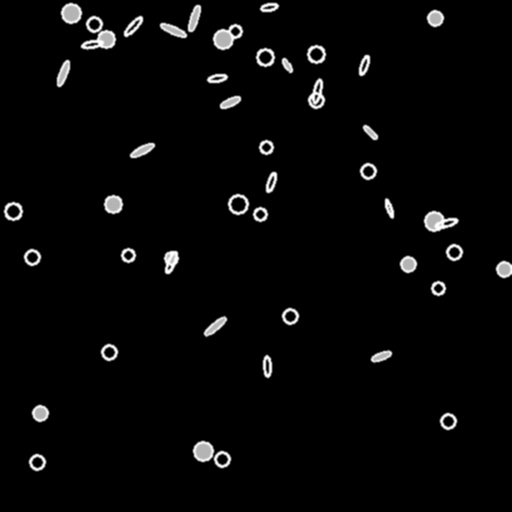pseudomonas: (203, 315, 227, 337), (122, 15, 144, 37), (159, 22, 187, 38), (55, 59, 71, 87), (130, 141, 154, 159), (163, 250, 179, 274), (187, 5, 201, 31), (434, 216, 458, 230), (370, 349, 392, 363), (264, 171, 278, 193), (311, 79, 323, 103), (220, 95, 240, 109), (362, 124, 378, 140), (358, 55, 370, 75), (82, 39, 102, 49), (281, 57, 293, 73), (384, 199, 394, 217), (208, 73, 226, 83), (261, 2, 277, 12), (263, 356, 271, 376)
synechocystis: (229, 195, 247, 213), (194, 442, 212, 460), (62, 4, 80, 22), (425, 212, 443, 230), (214, 30, 232, 48), (308, 46, 324, 62), (98, 31, 114, 47), (257, 49, 273, 65), (5, 203, 21, 219), (105, 196, 121, 212), (428, 11, 442, 25), (215, 452, 229, 466), (401, 257, 415, 271), (447, 245, 461, 259), (87, 17, 101, 31), (283, 309, 297, 323), (361, 164, 375, 178), (497, 262, 511, 276), (309, 93, 323, 107), (441, 414, 455, 428), (102, 345, 116, 359), (25, 250, 39, 264), (33, 406, 47, 420), (30, 455, 44, 469), (254, 208, 266, 220), (165, 252, 177, 264), (432, 282, 444, 294), (122, 249, 134, 261), (229, 25, 241, 37), (260, 141, 272, 153)
